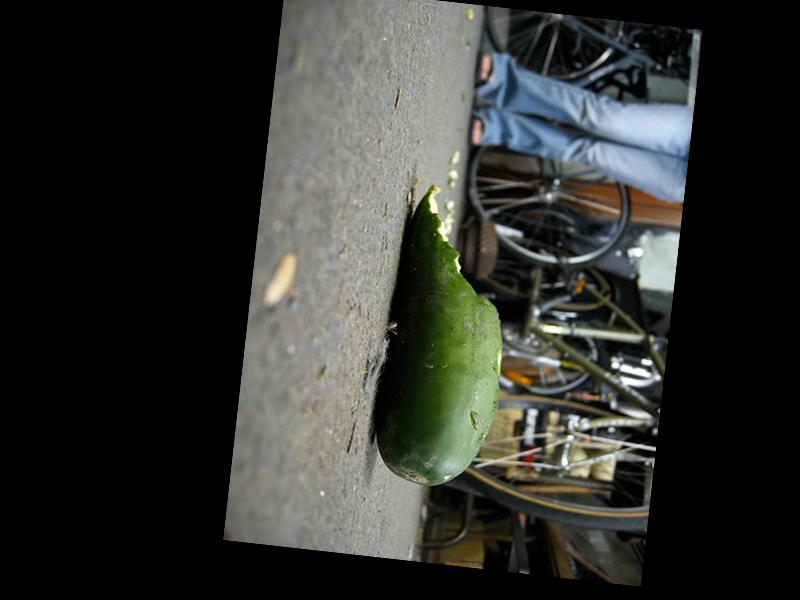Cucumber: (371, 177, 521, 491)
